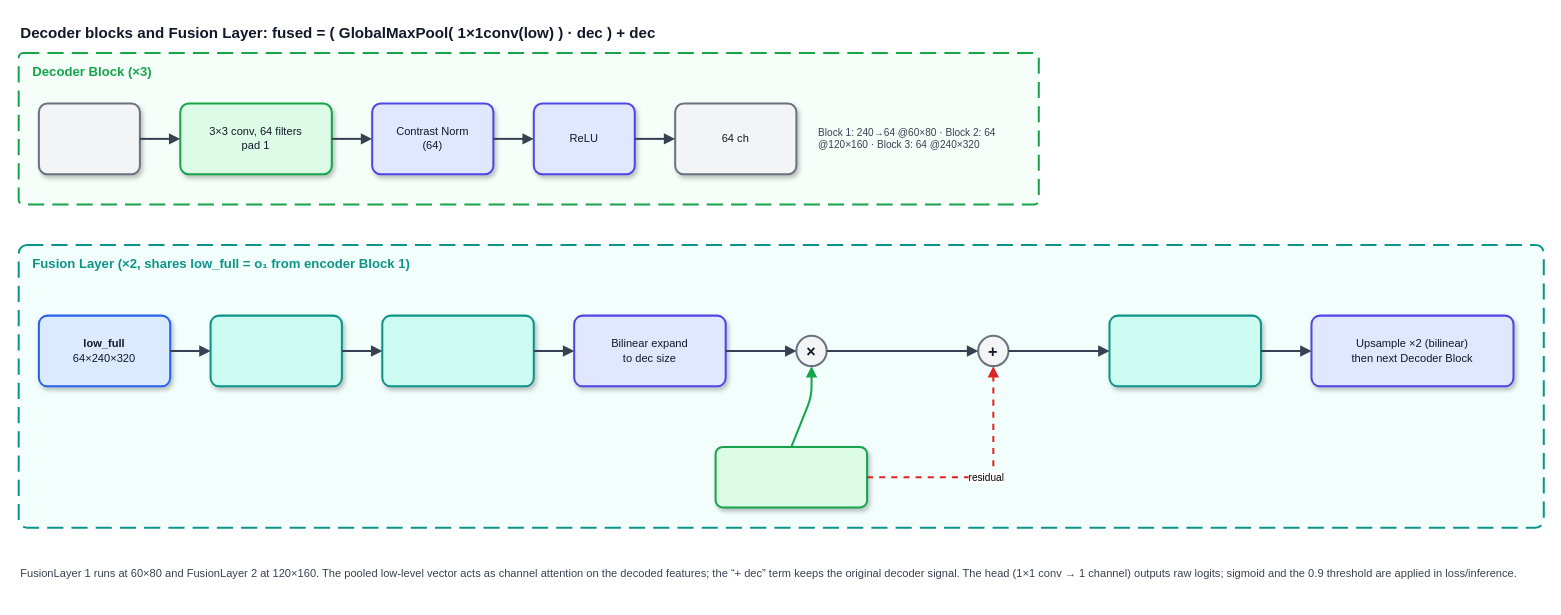
The diagram is 1561 pixels wide and 615 high, and some of its shapes have lost their labels. The shapes that lost their labels are listed below. From the top down, each one's centre as x and y in pixels, then its label:
point (89, 140): input (240 or 64 ch)
point (276, 352): 1×1 conv 64
point (458, 352): Global MaxPool → [B,64,1,1]
point (1186, 352): fused 64×h×w
point (792, 478): dec_out 64×h×w
